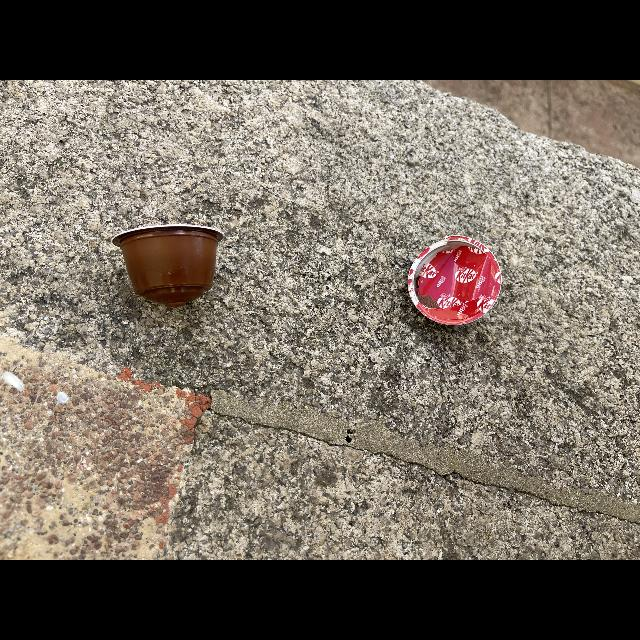damaged_capsule: (406, 232, 508, 328)
intact_capsule: (106, 215, 234, 318)
